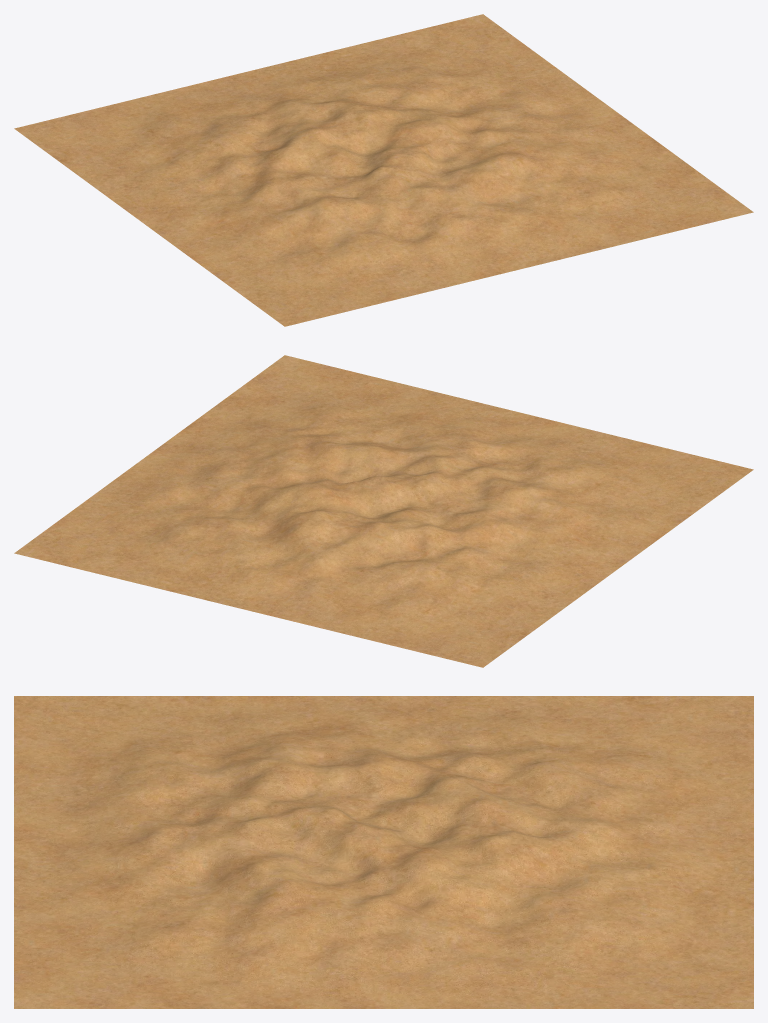
Rendered from terrain-transformed.glb.
3 views of the same model, one above another, from view 1: azimuth 30°, elevation 25°; view 2: azimuth 150°, elevation 25°; view 3: azimuth 270°, elevation 25° (orthographic). The views are drawn at different scales.
Parts seen in each view (by area): view 1: Landscape; view 2: Landscape; view 3: Landscape.
Part boxes in pixels (x1,y1,x2,y2): Landscape: [14, 14, 753, 326]; Landscape: [14, 355, 753, 667]; Landscape: [14, 696, 753, 1008].
Bounding box in the file's own units: 10 × 0.4505 × 10.
1 material, 1 textured.
